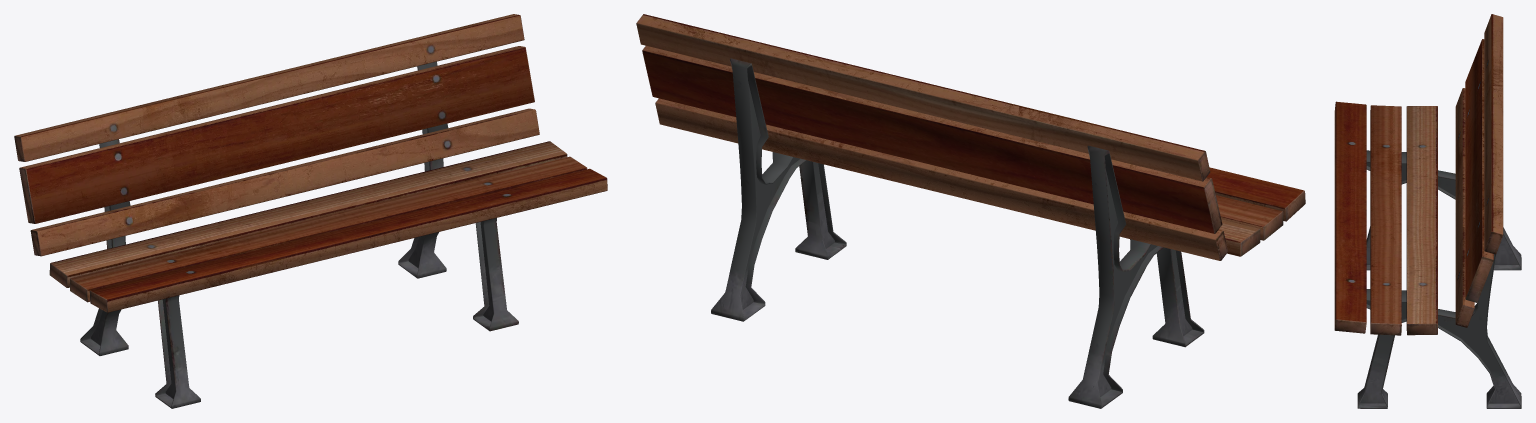
File: bench.glb
The picture shows the model from 3 angles, left to right: view 1: azimuth 30°, elevation 25°; view 2: azimuth 150°, elevation 25°; view 3: azimuth 270°, elevation 25°; orthographic projection. The views are drawn at different scales.
Visible parts, largest first — view 1: defaultMaterial (×3); view 2: defaultMaterial (×3); view 3: defaultMaterial (×3).
Part boxes in pixels (left/top/right/bottom): defaultMaterial (×3): left=14, top=14, right=607, bottom=408; defaultMaterial (×3): left=636, top=14, right=1305, bottom=408; defaultMaterial (×3): left=1334, top=14, right=1521, bottom=408.
Size of the model in its own units: 2 by 0.8992 by 0.723.
Materials: 3 (3 with a texture image).
